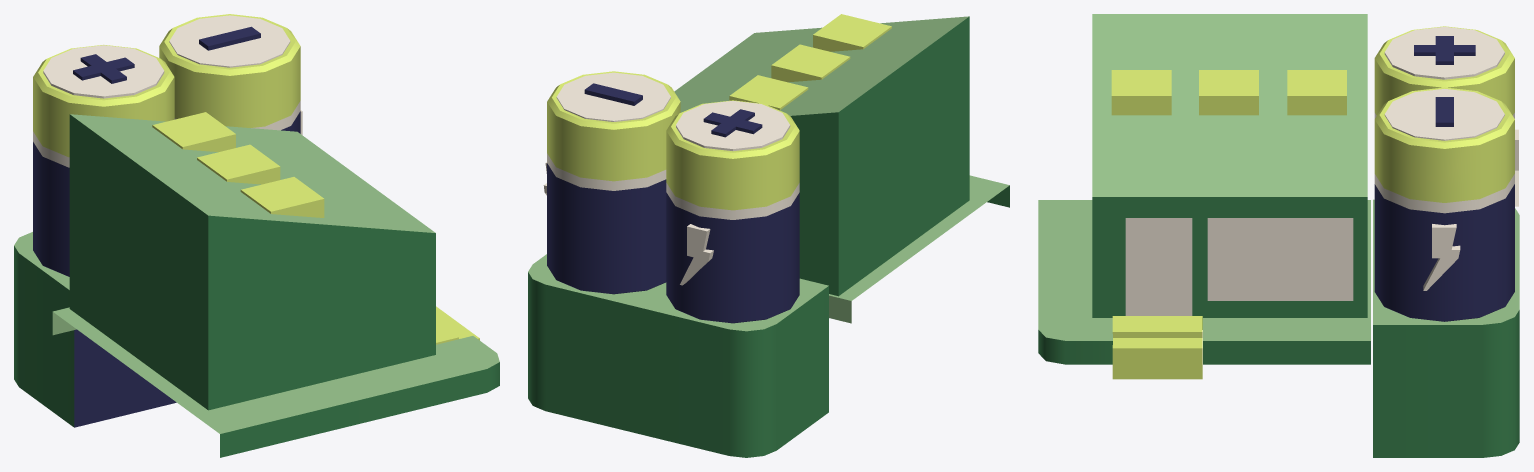
File: PowerStation.fbx
3 views of the same model, side by side, from view 1: azimuth 30°, elevation 25°; view 2: azimuth 150°, elevation 25°; view 3: azimuth 270°, elevation 25° (orthographic). The views are drawn at different scales.
Visible parts, largest first — view 1: PowerStation; view 2: PowerStation; view 3: PowerStation.
Boxes of the visible parts, left/top/right/bottom form: PowerStation: left=14, top=14, right=499, bottom=457; PowerStation: left=528, top=14, right=1009, bottom=457; PowerStation: left=1038, top=14, right=1519, bottom=457.
Size of the model in its own units: 54.43 by 55.64 by 76.86.
